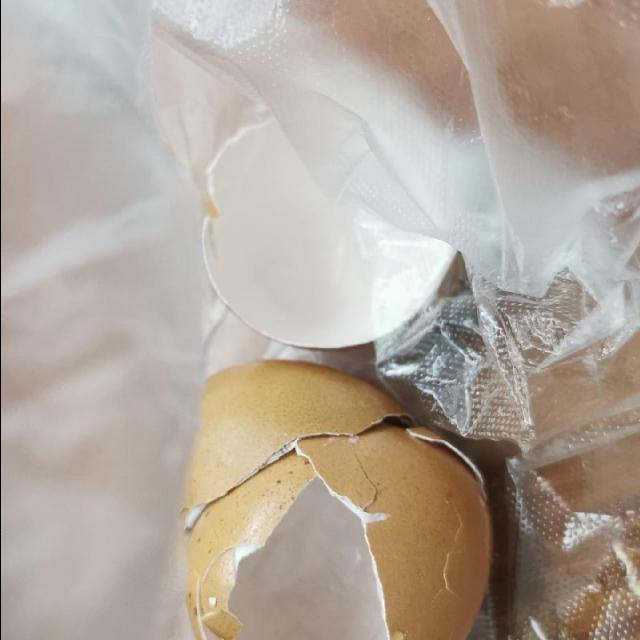egg shell: (177, 354, 499, 636), (195, 96, 464, 348)
